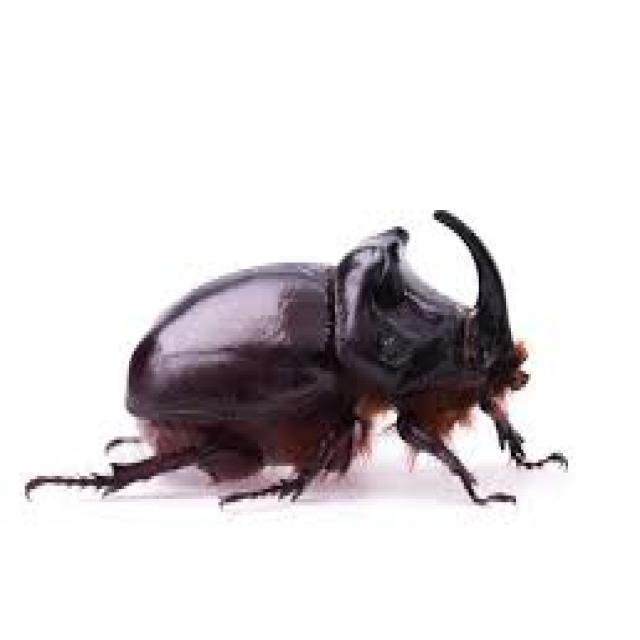Rhino-beetle: (23, 208, 558, 527)
